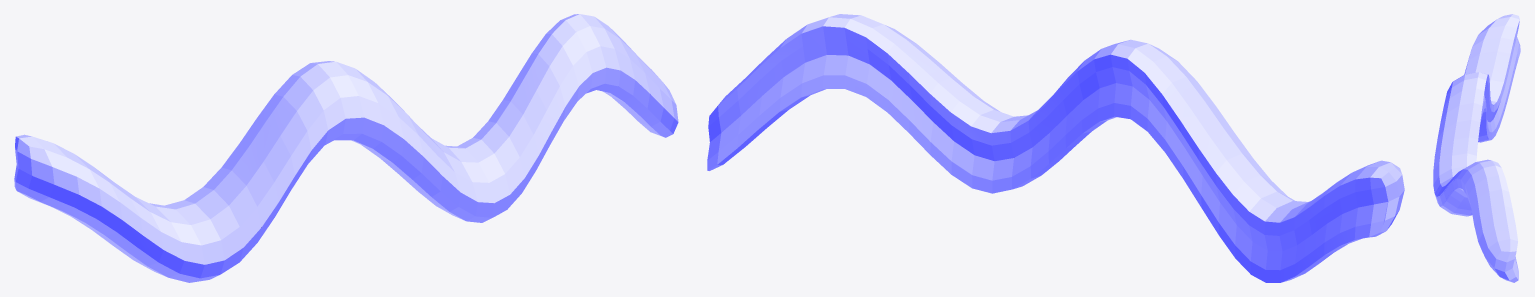
File: oko_Baked.001.fbx
3 renders of one model, left to right at view 1: azimuth 30°, elevation 25°; view 2: azimuth 150°, elevation 25°; view 3: azimuth 270°, elevation 25°, orthographic. The views are drawn at different scales.
Parts seen in each view (by area): view 1: oko_Baked.001_Baked; view 2: oko_Baked.001_Baked; view 3: oko_Baked.001_Baked.
Boxes of the visible parts, x1,y1,x2,y2 form: oko_Baked.001_Baked: (14,14,678,282); oko_Baked.001_Baked: (707,14,1404,282); oko_Baked.001_Baked: (1433,14,1520,282).
Bounding box in the file's own units: 38.22 × 10.36 × 7.74.
1 material, 1 textured.
